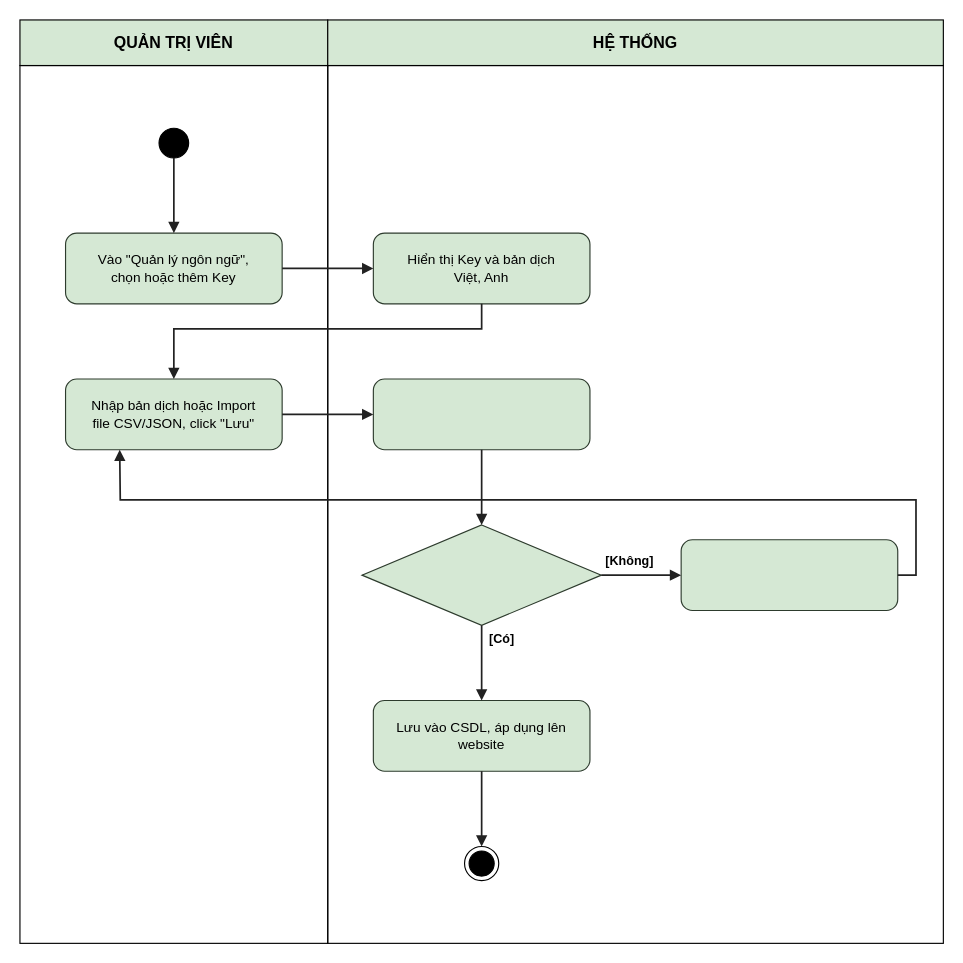
This 963x963 diagram has some shape labels left out. Here are the shapes that lost their labels. From the top down, the centre of each, then its label:
(x=481, y=414): Kiểm tra dữ liệu và định dạng file
(x=481, y=574): Dữ liệu hợp lệ?
(x=789, y=574): Thông báo lỗi, chỉ ra dòng sai hoặc Key trùng
